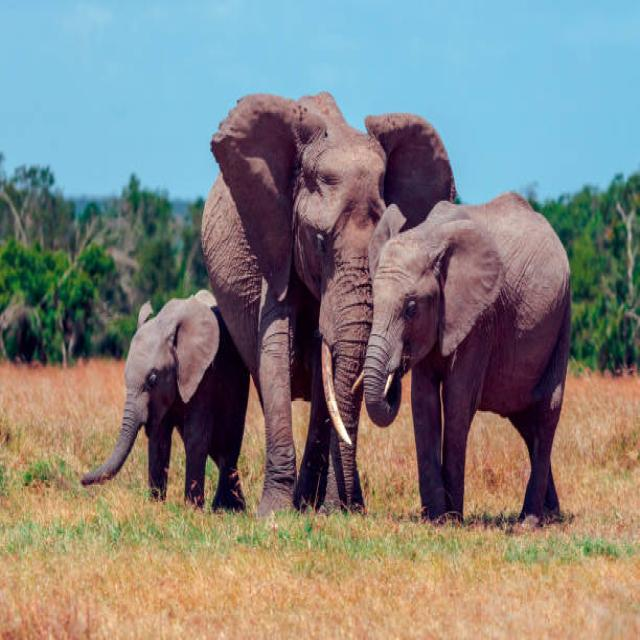Elephant: (199, 38, 436, 546), (345, 172, 616, 552), (96, 268, 234, 550)
